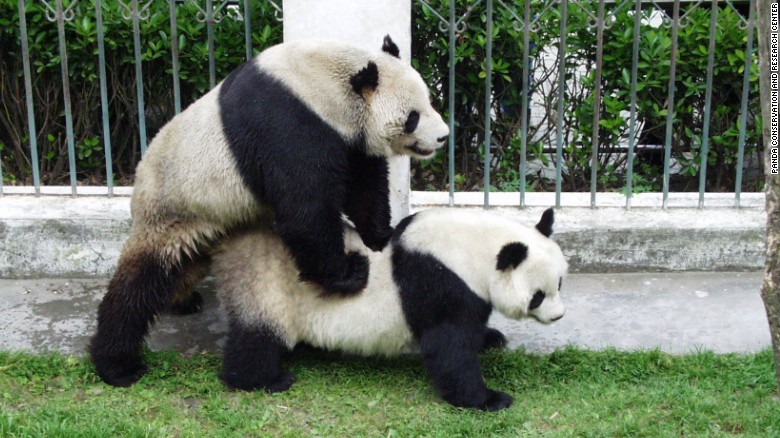panda: (84, 30, 443, 438), (191, 168, 576, 438)
